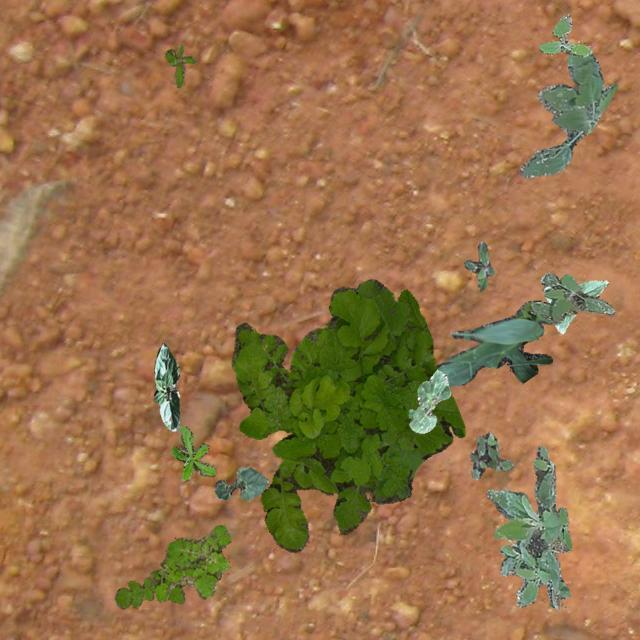crop: (436, 300, 552, 386), (542, 280, 608, 332), (408, 368, 450, 432), (152, 342, 178, 429), (214, 466, 268, 498)
weed: (231, 278, 464, 552), (486, 444, 570, 608), (518, 54, 618, 176), (153, 524, 230, 600), (528, 272, 614, 324), (114, 568, 184, 608), (170, 426, 216, 480), (538, 12, 592, 56), (468, 429, 512, 478), (462, 240, 493, 290), (163, 44, 196, 86)
